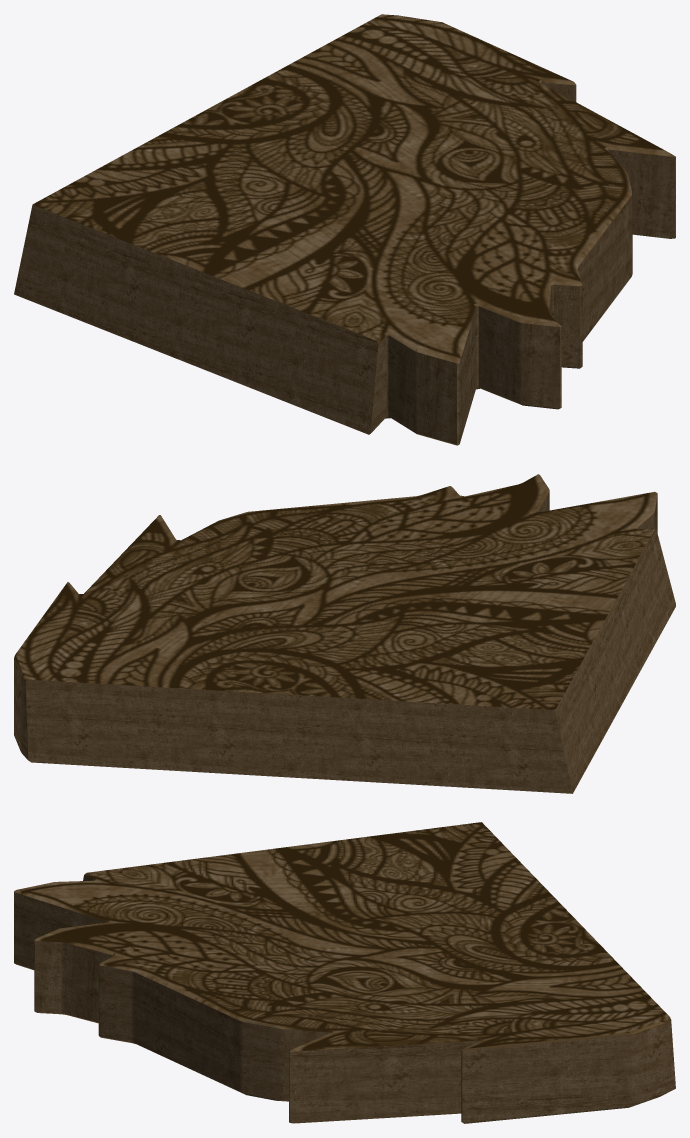
File: mdl_brush_lionpiece2.gltf
3 renders of one model, top to bottom at view 1: azimuth 30°, elevation 25°; view 2: azimuth 150°, elevation 25°; view 3: azimuth 270°, elevation 25°, orthographic. The views are drawn at different scales.
Parts seen in each view (by area): view 1: Piece 2; view 2: Piece 2; view 3: Piece 2.
Boxes of the visible parts, left/top/right/bottom form: Piece 2: left=14, top=14, right=675, bottom=445; Piece 2: left=14, top=474, right=675, bottom=793; Piece 2: left=14, top=822, right=675, bottom=1123.
Bounding box in the file's own units: 1.19 × 0.1766 × 1.41.
Materials: 2 (2 with a texture image).
